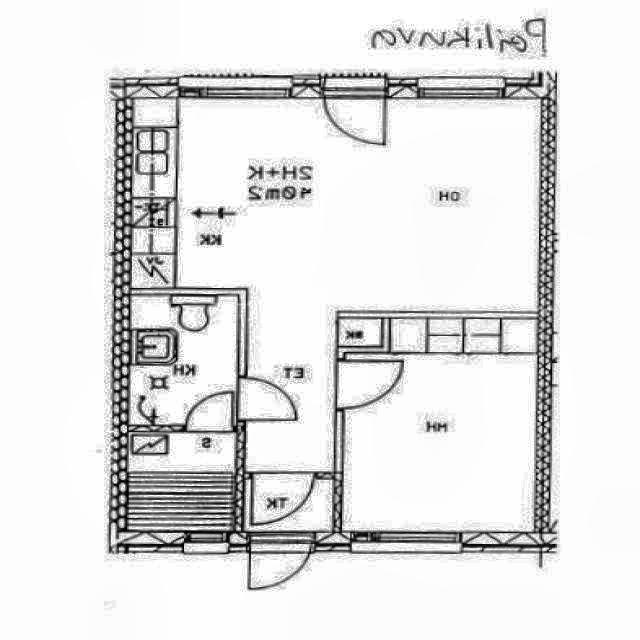room: (344, 320, 536, 530), (130, 295, 236, 426), (128, 432, 237, 531), (246, 480, 331, 530)
